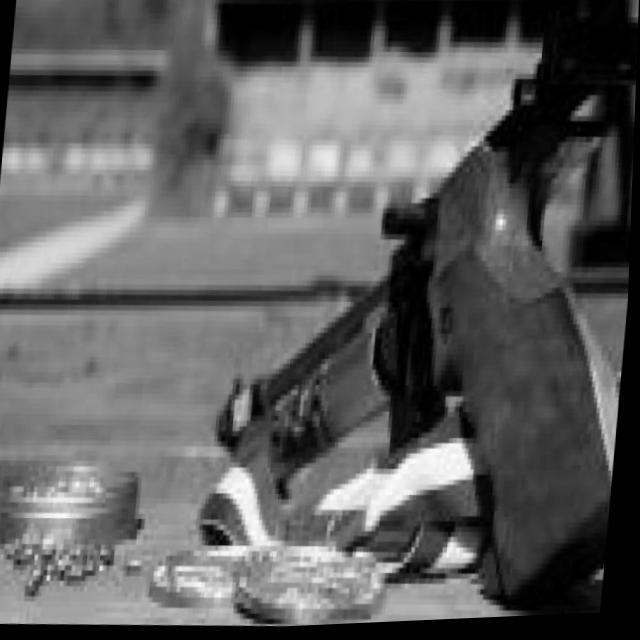weapon: (198, 0, 640, 620)
